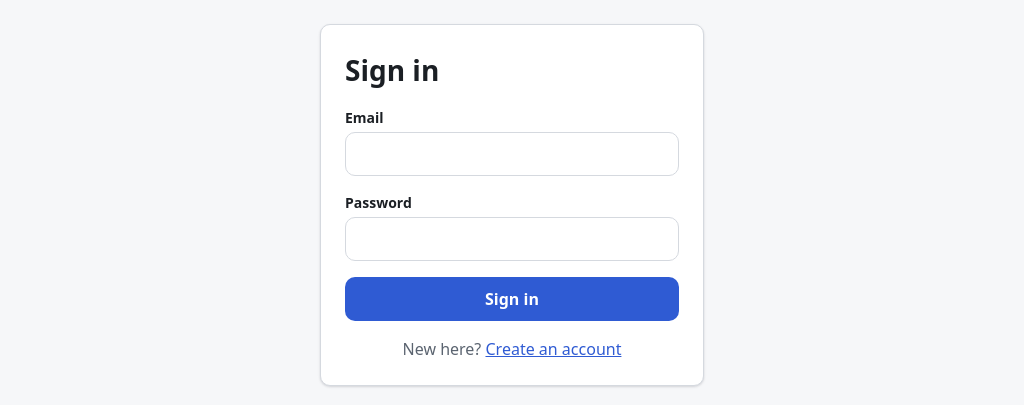
Scenario: SignInPage › signs in with valid credentials and shows the task list
In the field labelled "Email": (512, 154) [345,132,679,176], type "ada@example.com"
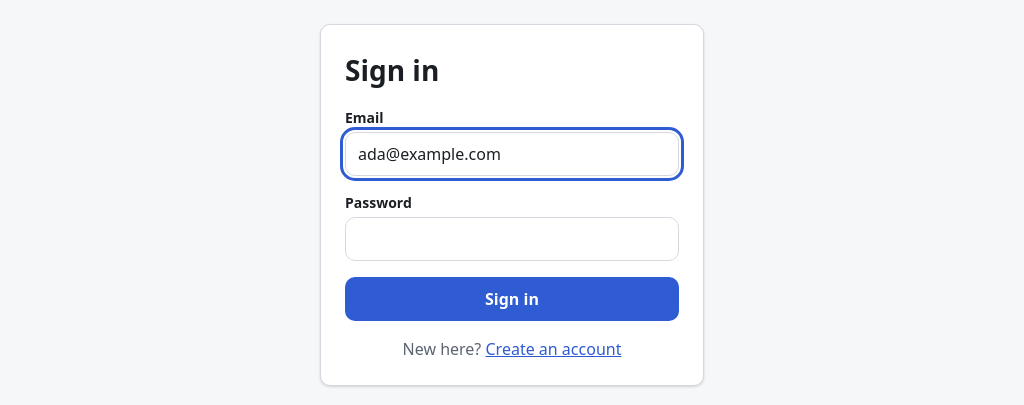
In the password field labelled "Password": (512, 239) [345,217,679,261], type "secret"
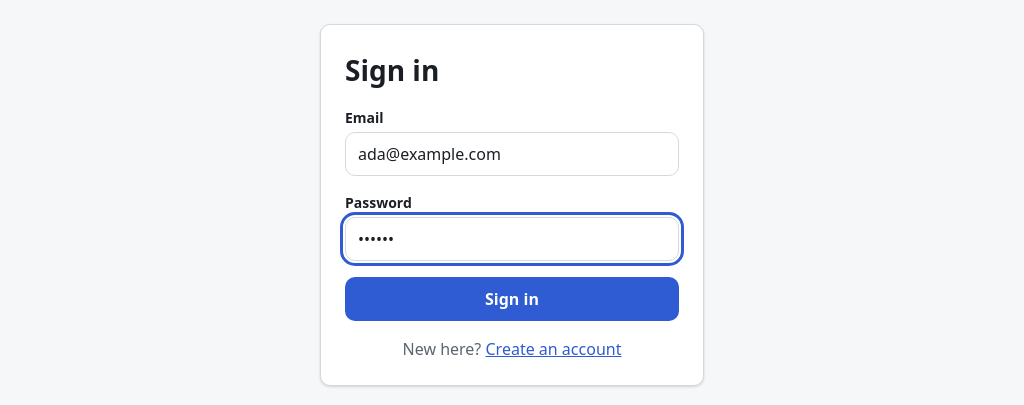
Click the button "Sign in": (512, 299) [345,277,679,321]
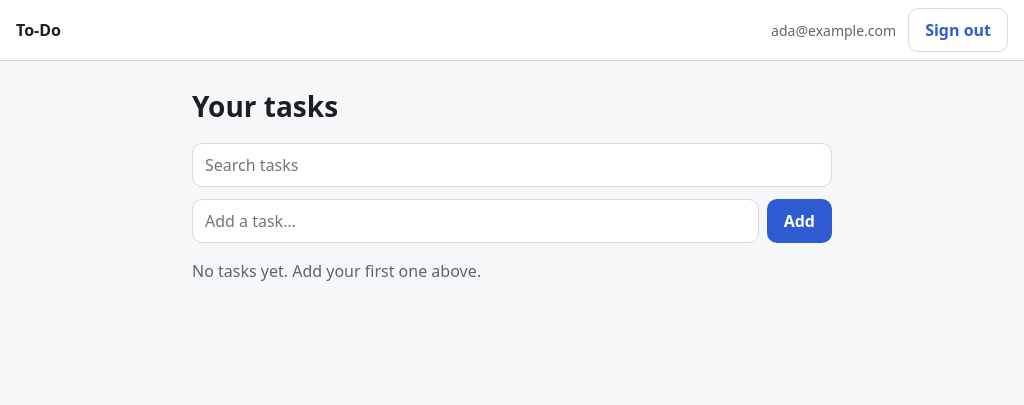
Expected: the heading "Your tasks" is shown, [192,87,338,125]
Expected: the text "ada@example.com" is shown, [771,20,896,40]
